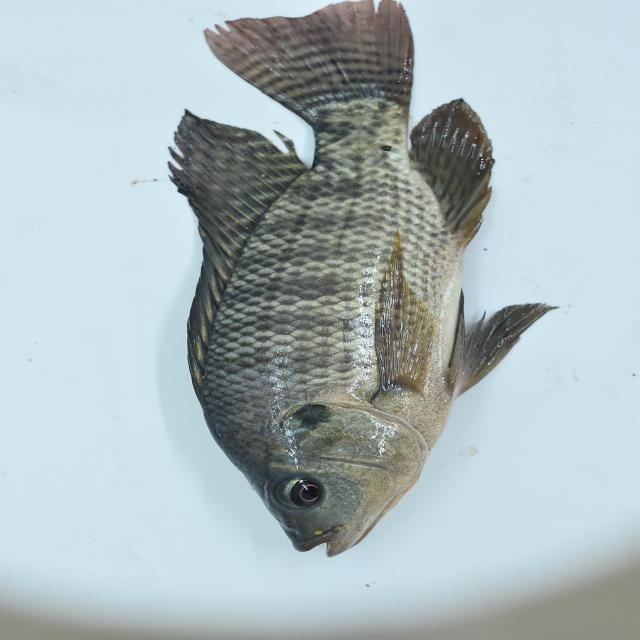Healthy Fish: (163, 2, 553, 571)
